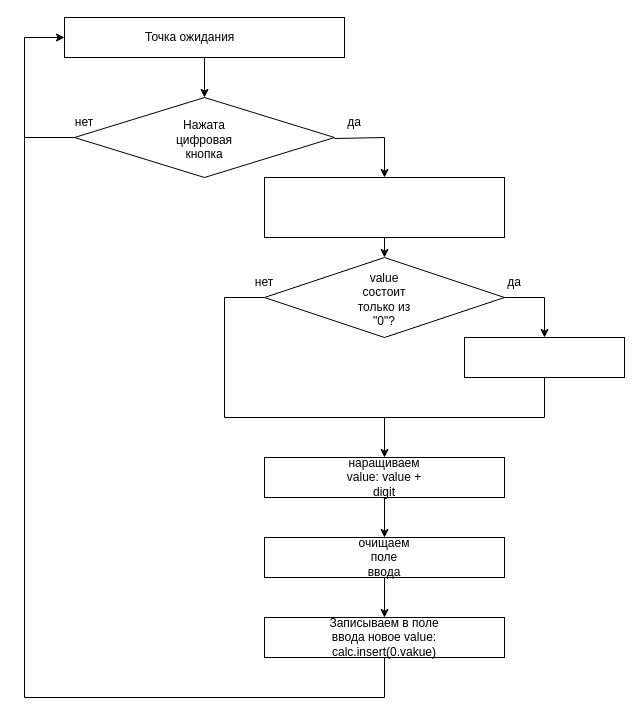
This 642x723 diagram has some shape labels left out. The centre of each missing label's shape, as x and y in pixels:
считываем поле ввода в переменную value: (x=384, y=207)
убираем "0" из value vakue = value[1:]: (x=544, y=357)
